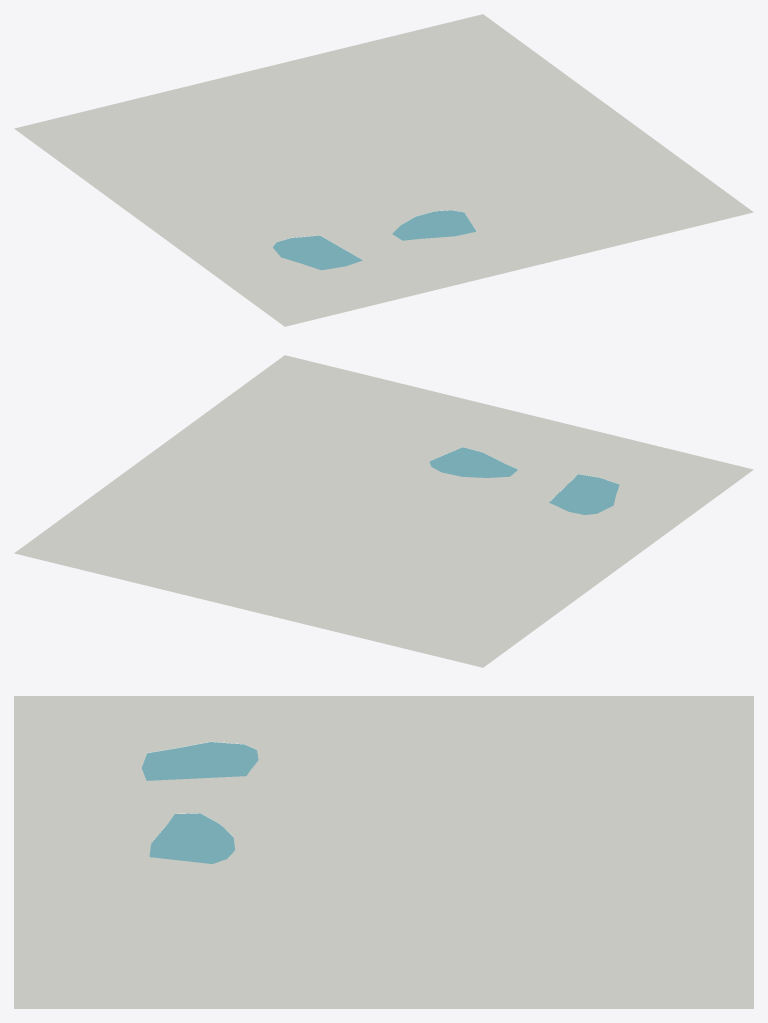
3 renders of one model, top to bottom at view 1: azimuth 30°, elevation 25°; view 2: azimuth 150°, elevation 25°; view 3: azimuth 270°, elevation 25°, orthographic. The views are drawn at different scales.
Parts seen in each view (by area): view 1: city; view 2: city; view 3: city.
Boxes of the visible parts, x1,y1,x2,y2 form: city: (14,14,753,326); city: (14,355,753,667); city: (14,696,753,1008).
Bounding box in the file's own units: 500 × 0.18 × 500.
